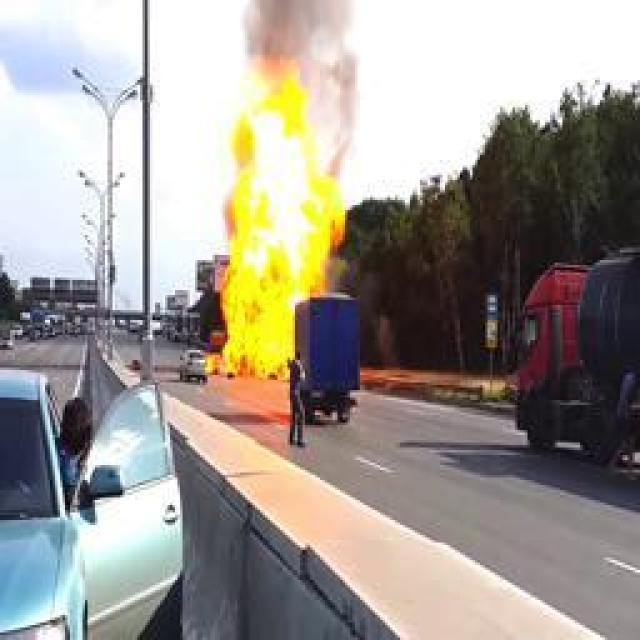Fire: (212, 55, 342, 378)
